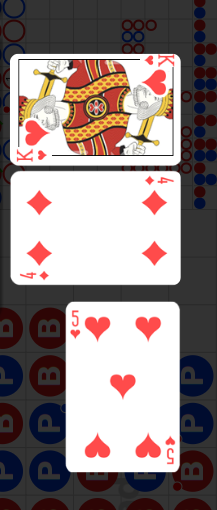5H: (69, 309, 82, 341), (163, 434, 176, 465)
KH: (143, 54, 176, 67)
